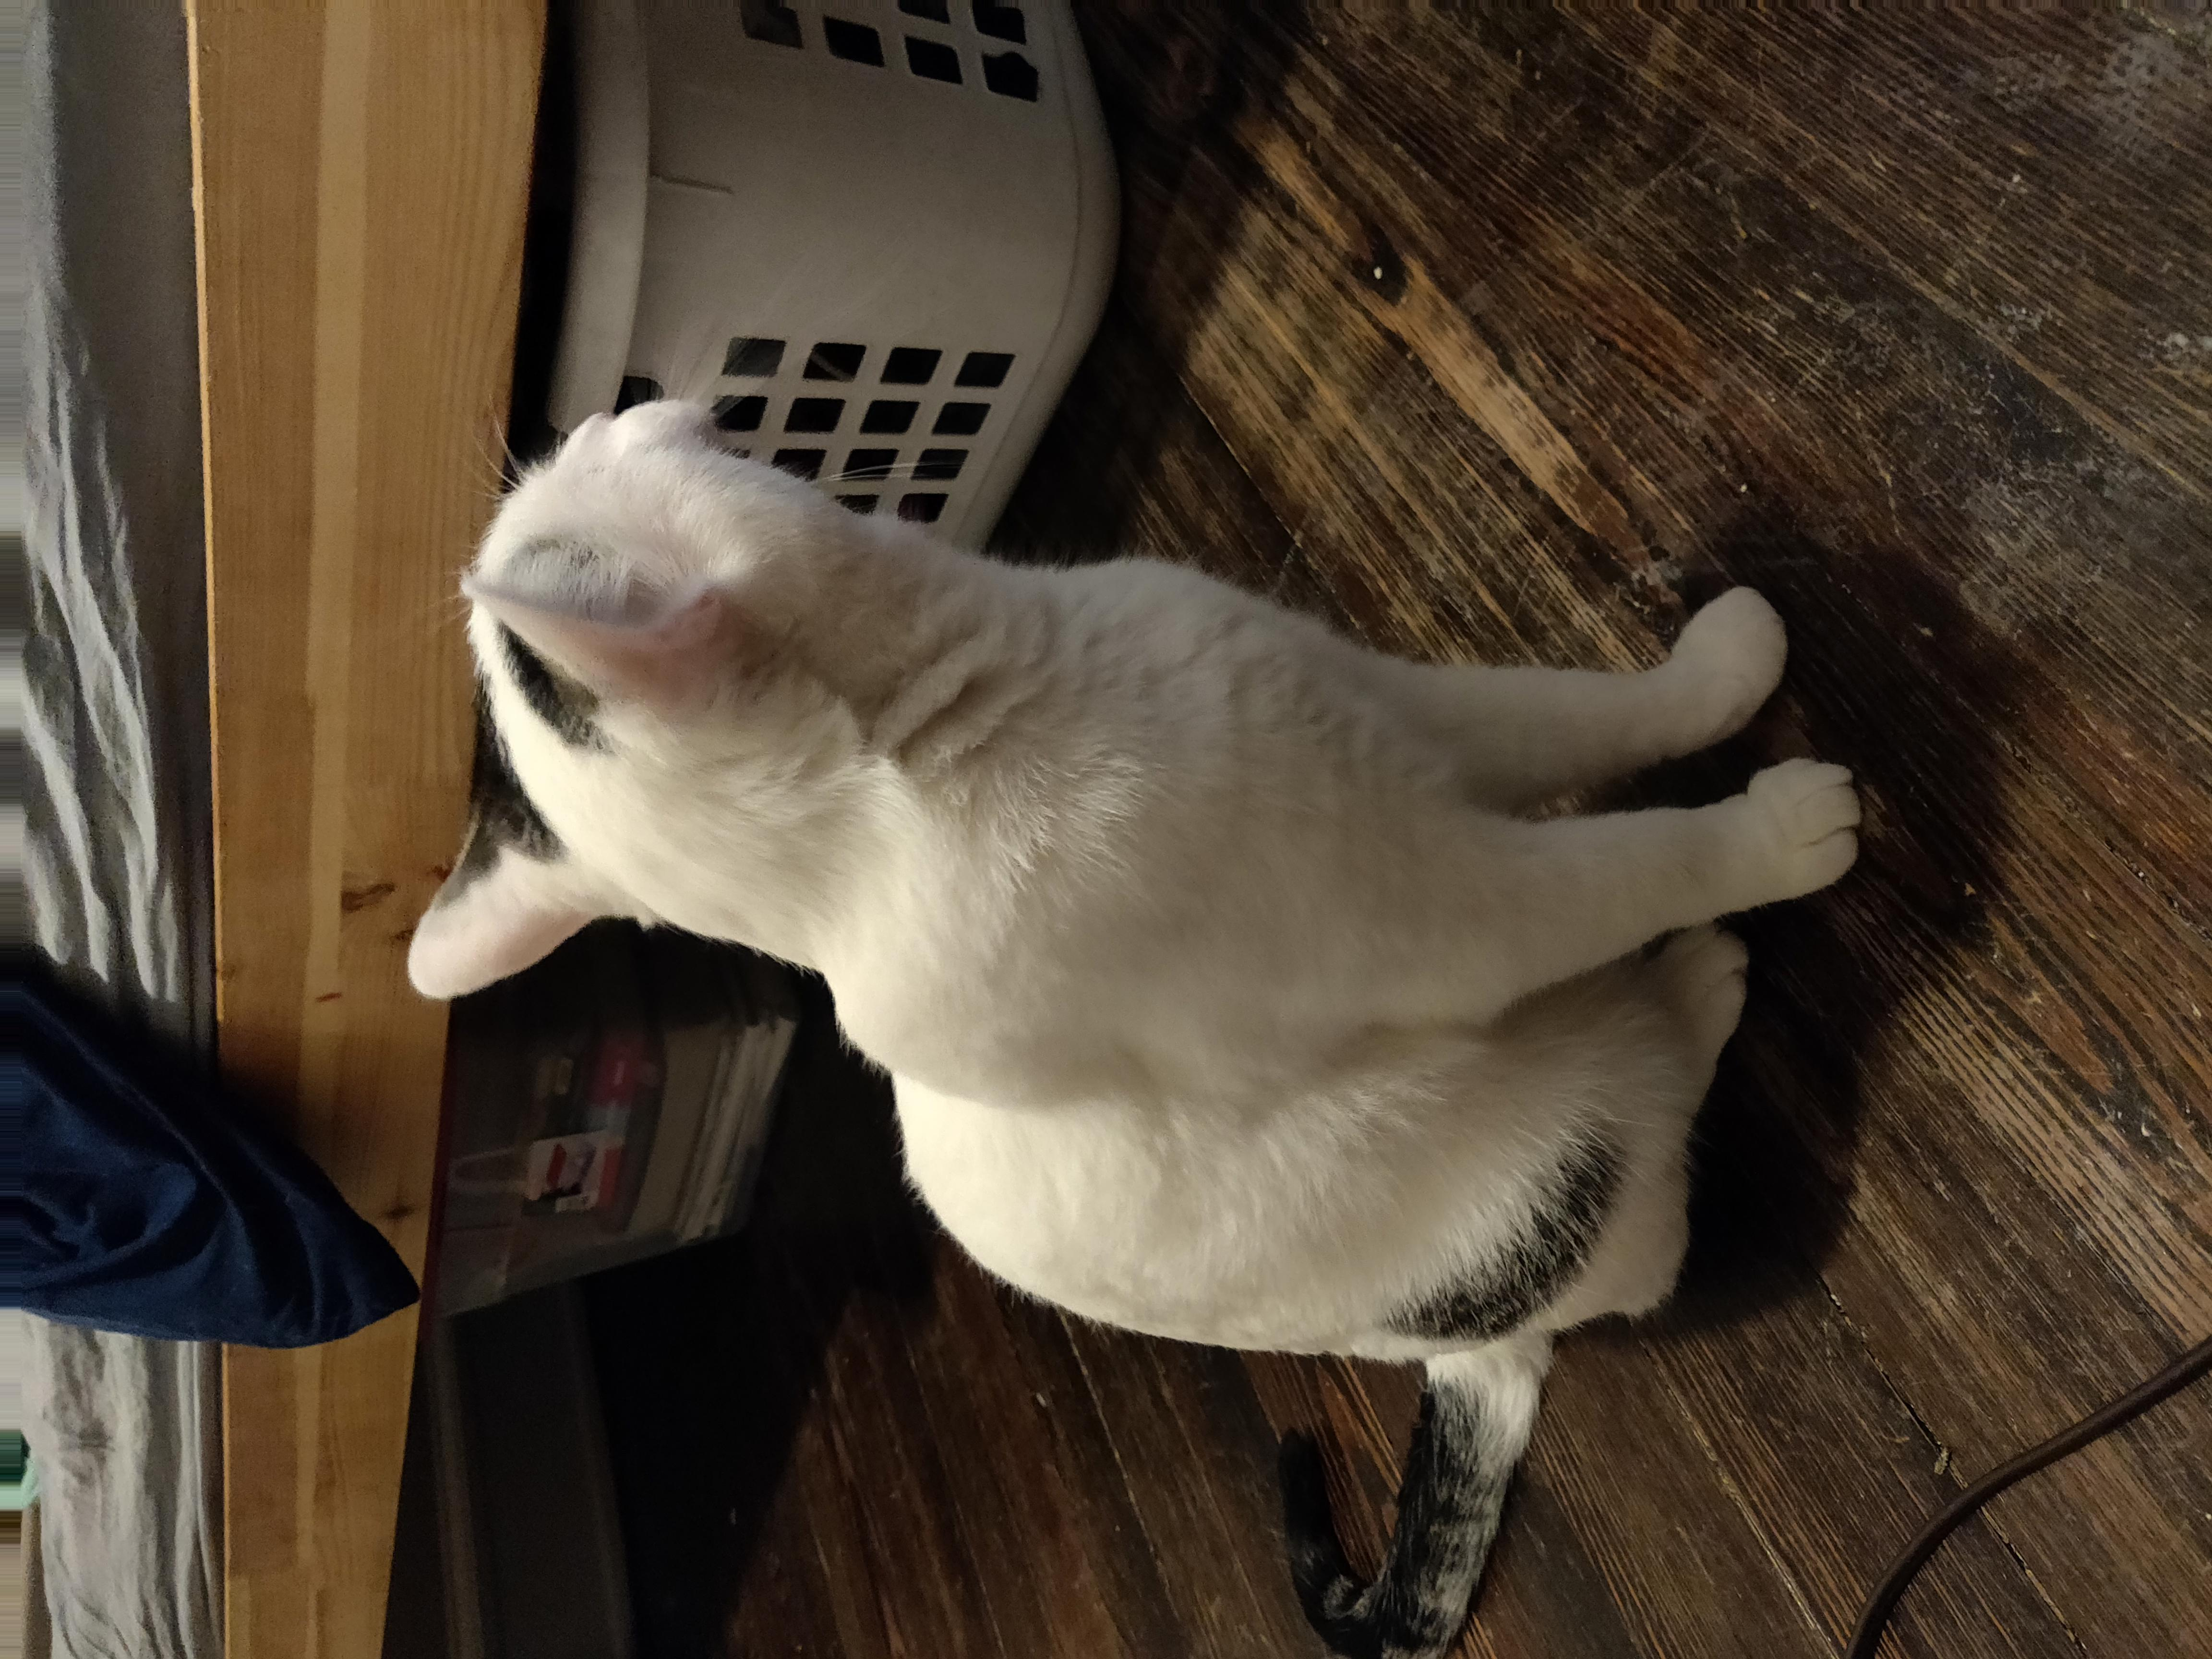cat: (445, 399, 1854, 1647)
